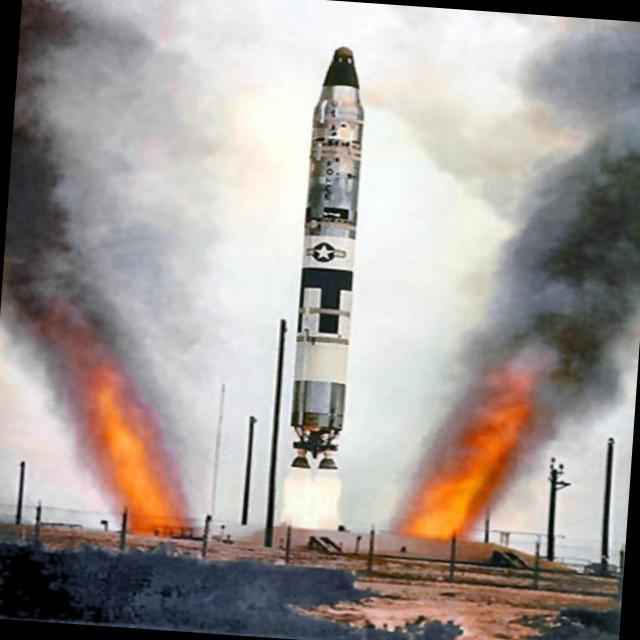rocket: (265, 29, 387, 485)
